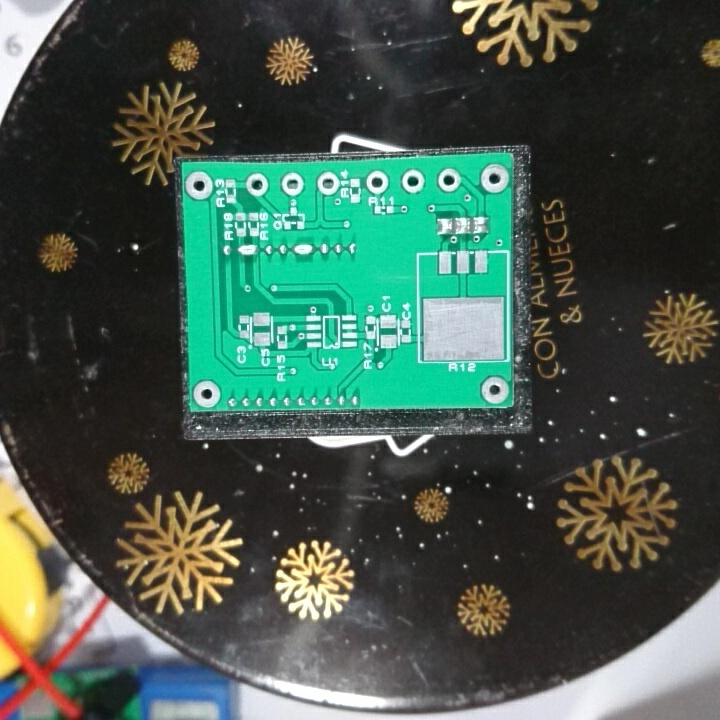F: (476, 374, 510, 406), (190, 378, 225, 407), (185, 168, 213, 202), (479, 162, 507, 193), (399, 167, 426, 195), (363, 168, 390, 194), (243, 170, 271, 195), (278, 170, 304, 195), (314, 171, 341, 195), (435, 166, 459, 190)
P: (292, 239, 316, 261), (236, 241, 261, 259)
